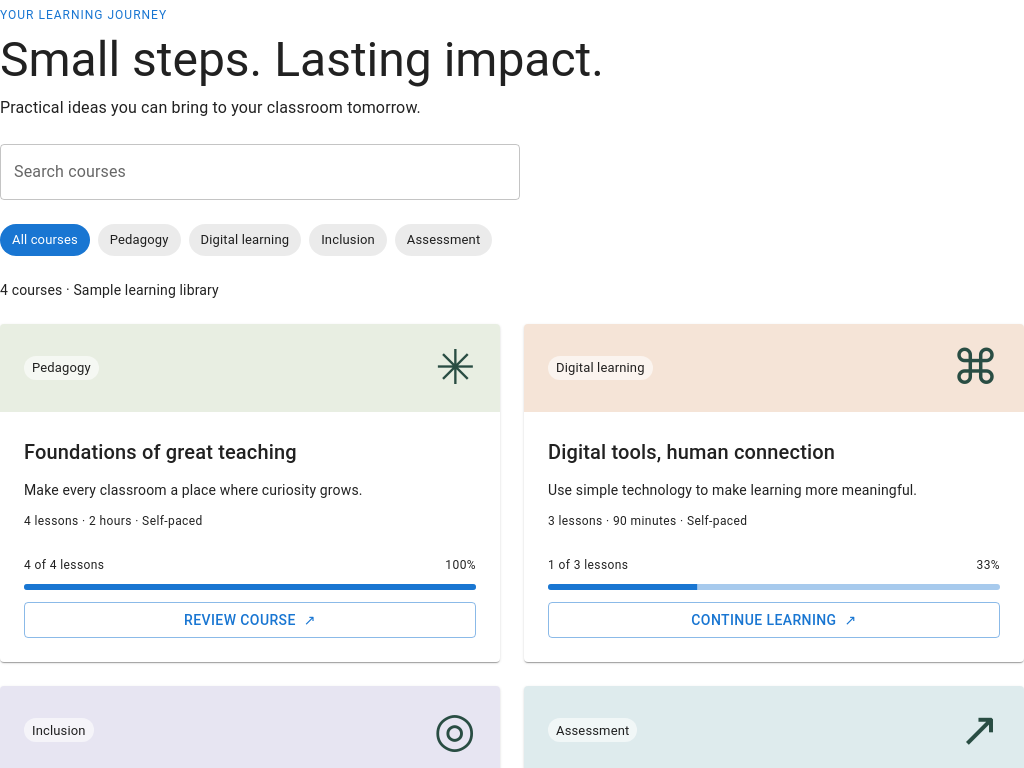
Test: course learning › opens a shorter course after reviewing the final lesson of a longer one
Click the button "Review course ↗" at (250, 620), box [24,602,476,638]
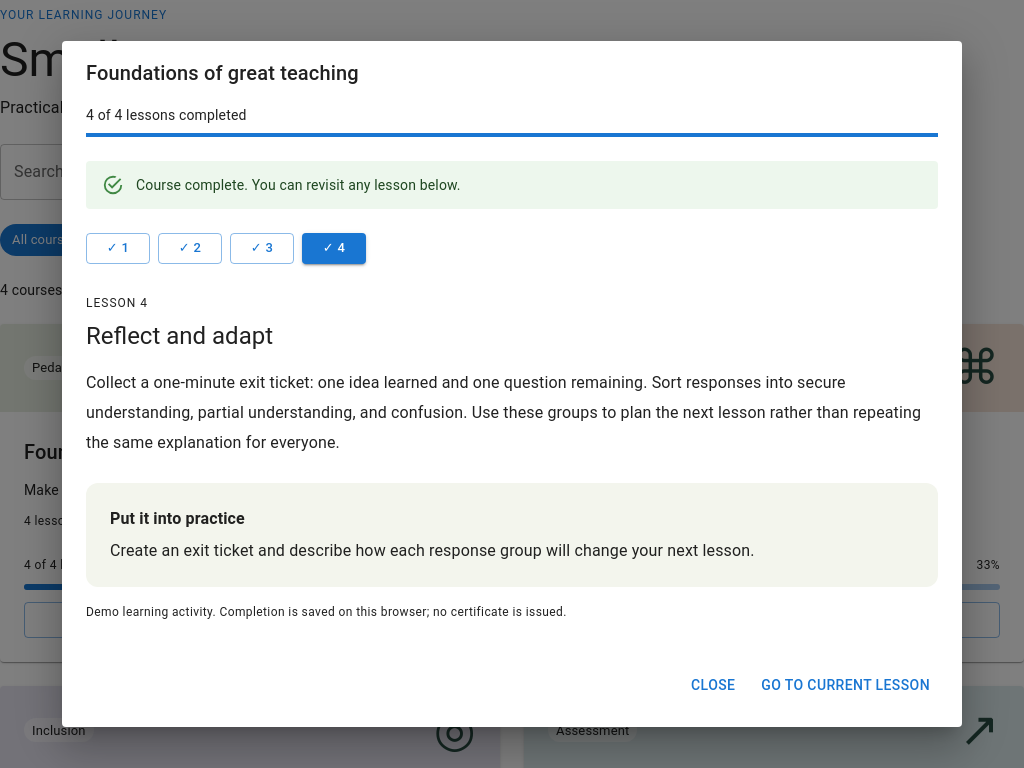
Now the heading "Reflect and adapt" is shown, box [86,322,273,350]
Click the button "Close" at (713, 685), box [681,667,745,703]
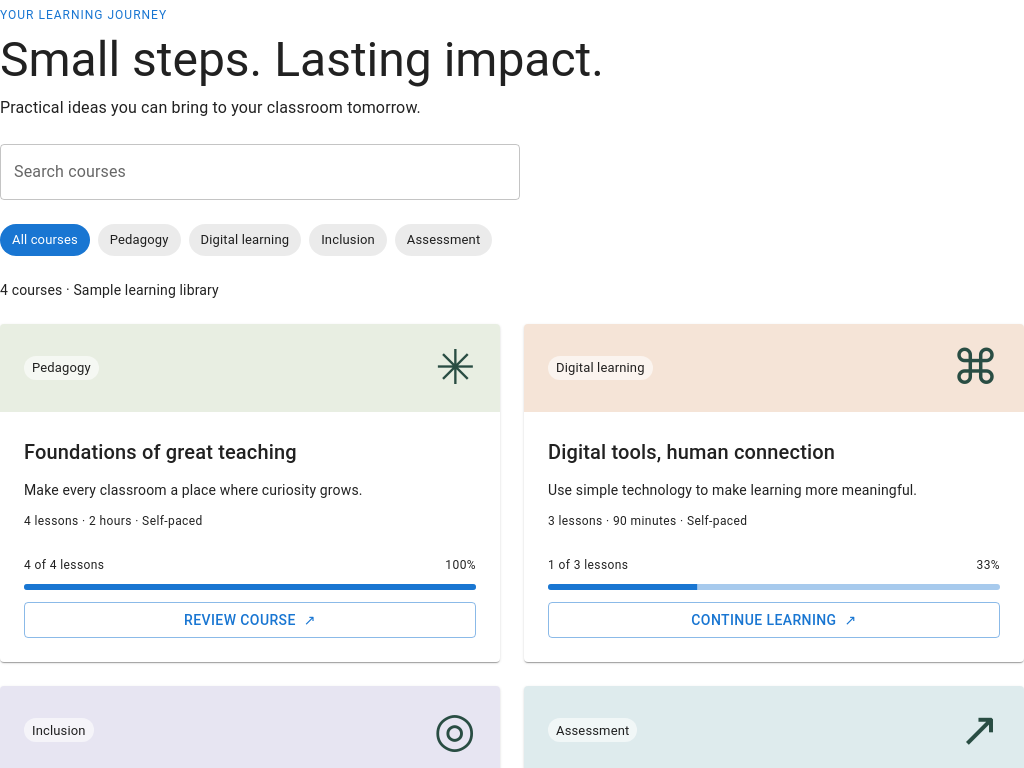
Click the button "Continue learning ↗" at (774, 620), box [548,602,1000,638]
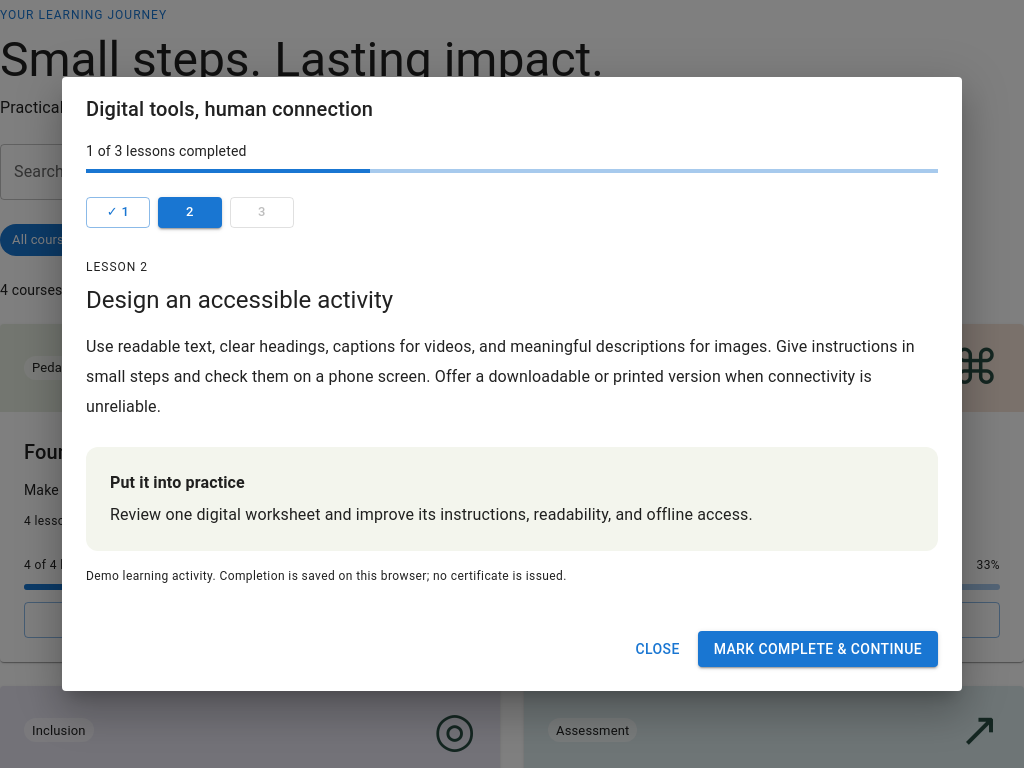
Now the heading "Design an accessible activity" is shown, box [86,286,393,314]
